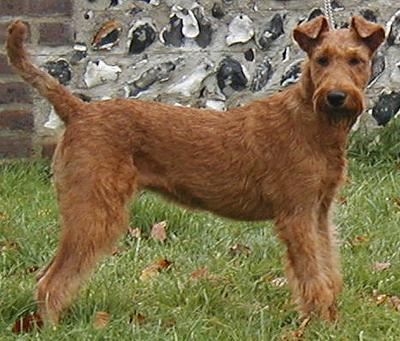wire-haired_fox_terrier: (5, 9, 388, 340)
